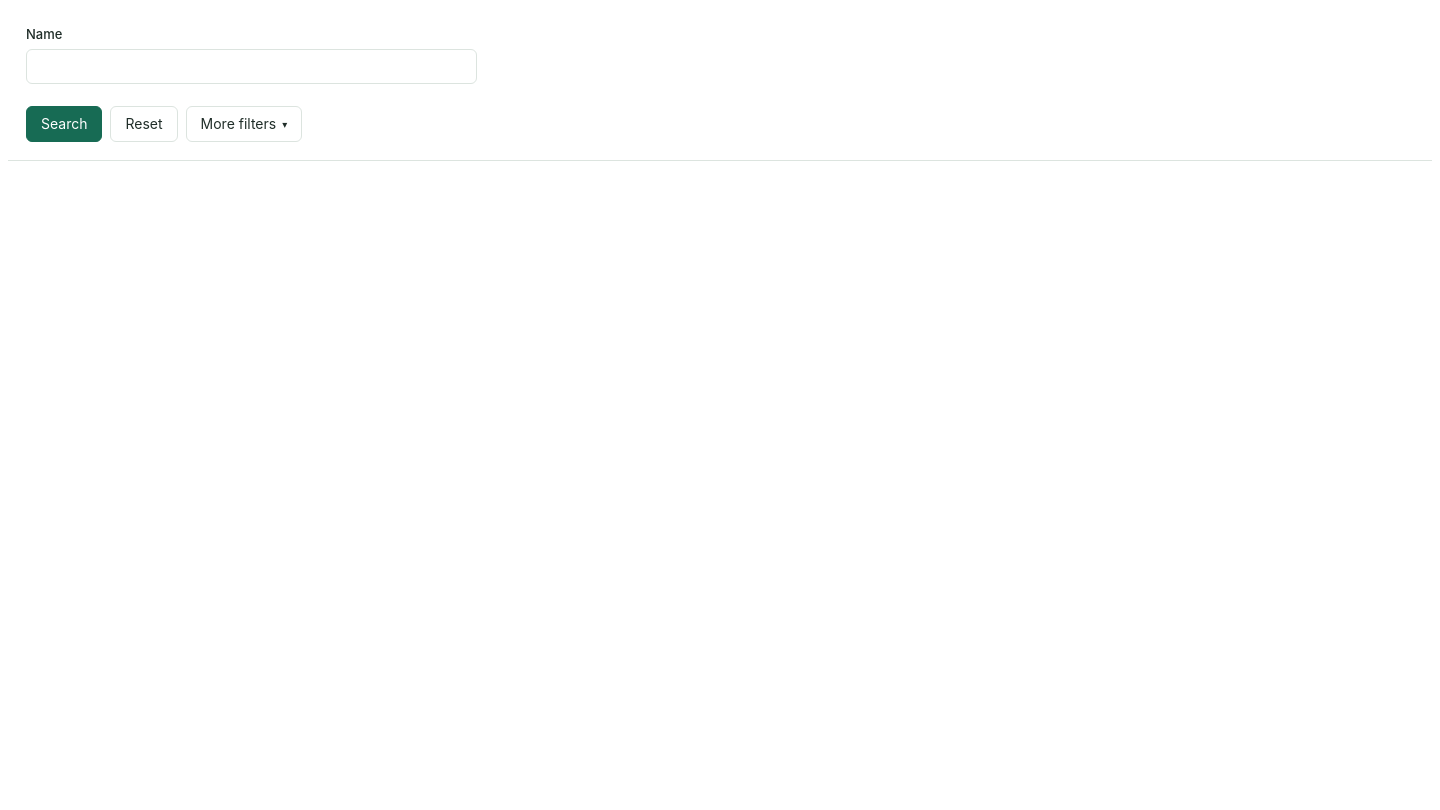
Test case: popover search validates required more-fields before searching
This screenshot has width=1440, height=810.
Click the button with test id "rac-more-filters": (244, 124) [186,106,302,142]
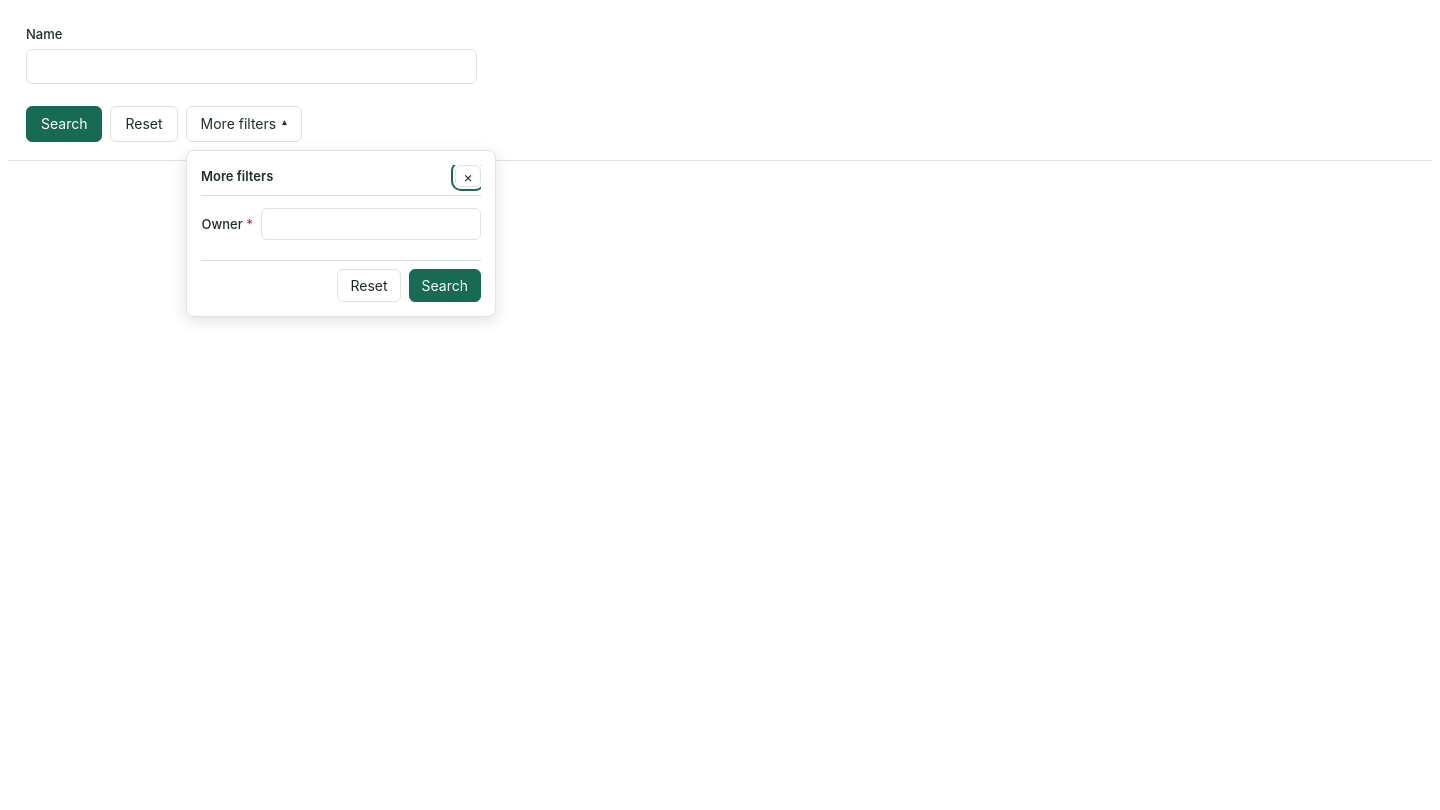
Result: the button named "Close" is shown at [455,165,481,187]
Click the button "Search" below "Owner": (445, 286) [408,269,481,302]
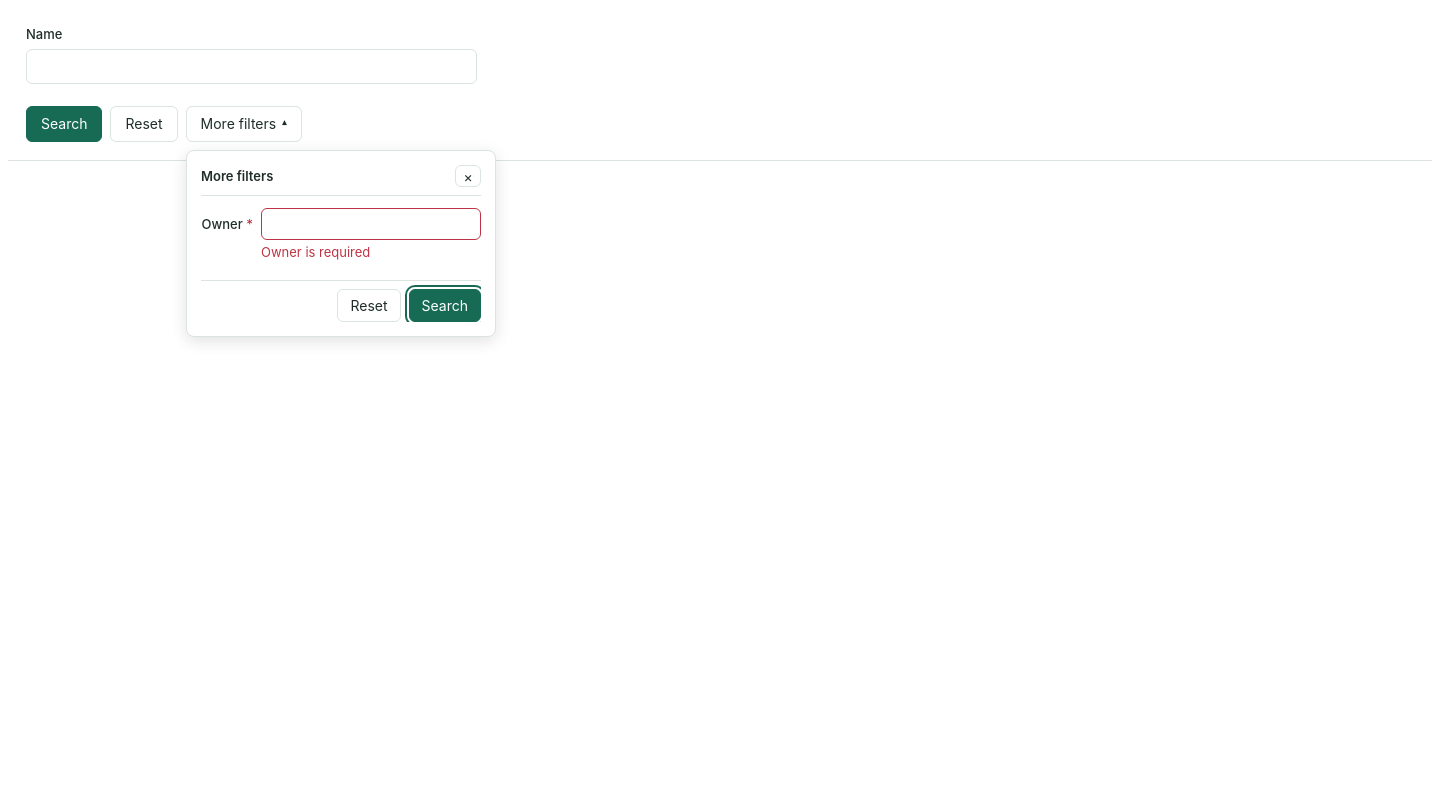
Result: the text "Owner is required" is shown at [261,244,370,260]
